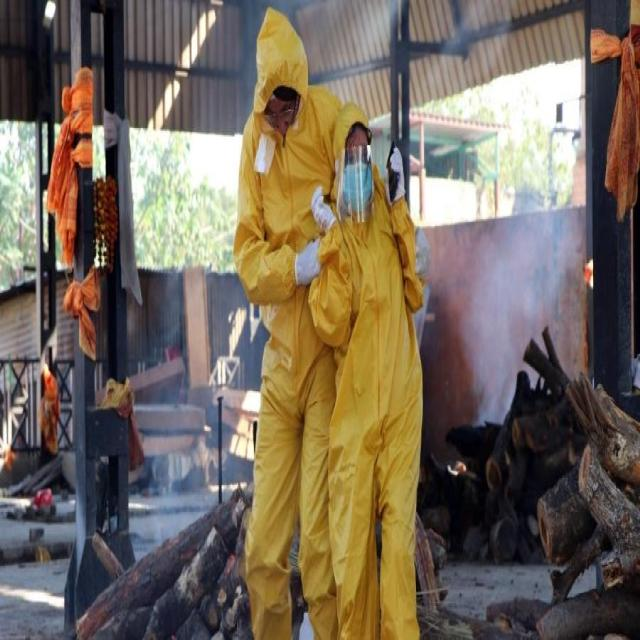Coverall: (221, 5, 355, 640), (310, 25, 417, 640)
Gloves: (285, 199, 332, 312), (300, 184, 356, 268), (379, 126, 410, 241)
Goggles: (253, 100, 309, 132)
Mask: (333, 162, 394, 215)
